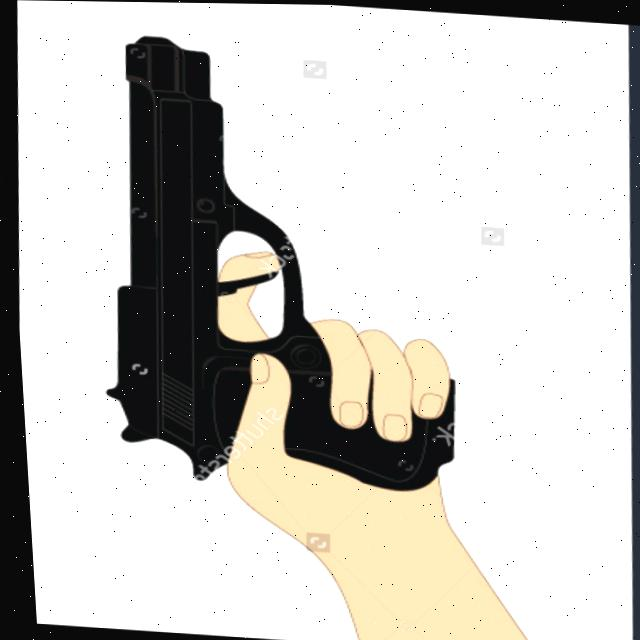pistol: (79, 34, 472, 495)
